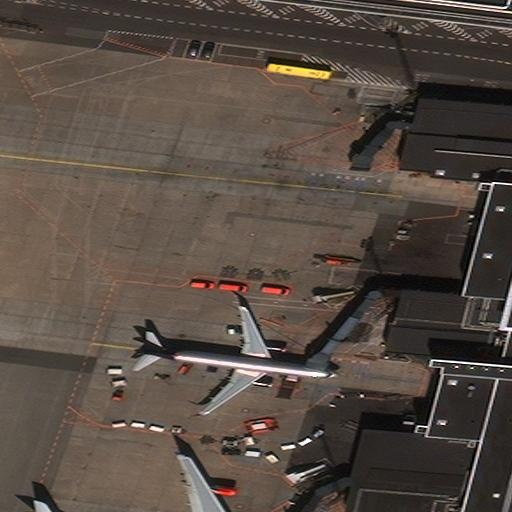Large Civil Transport: (61, 457, 277, 512)
Medium Civil Transport: (139, 305, 336, 415)
